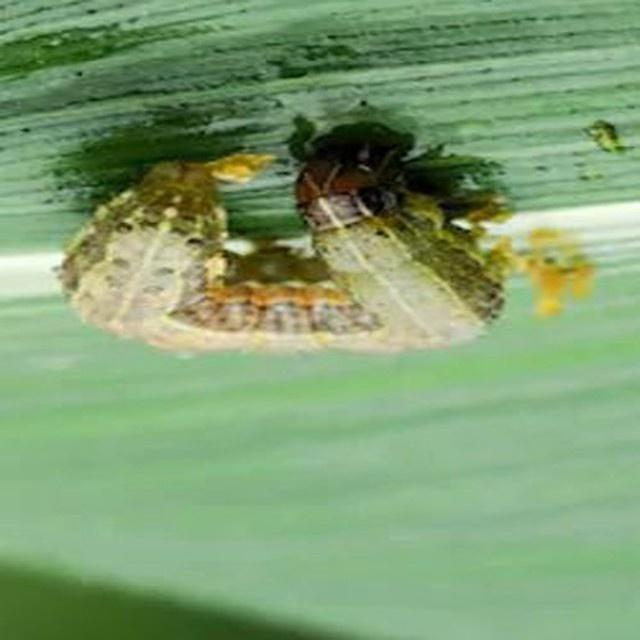gusano_cogollero: (54, 141, 507, 360)
